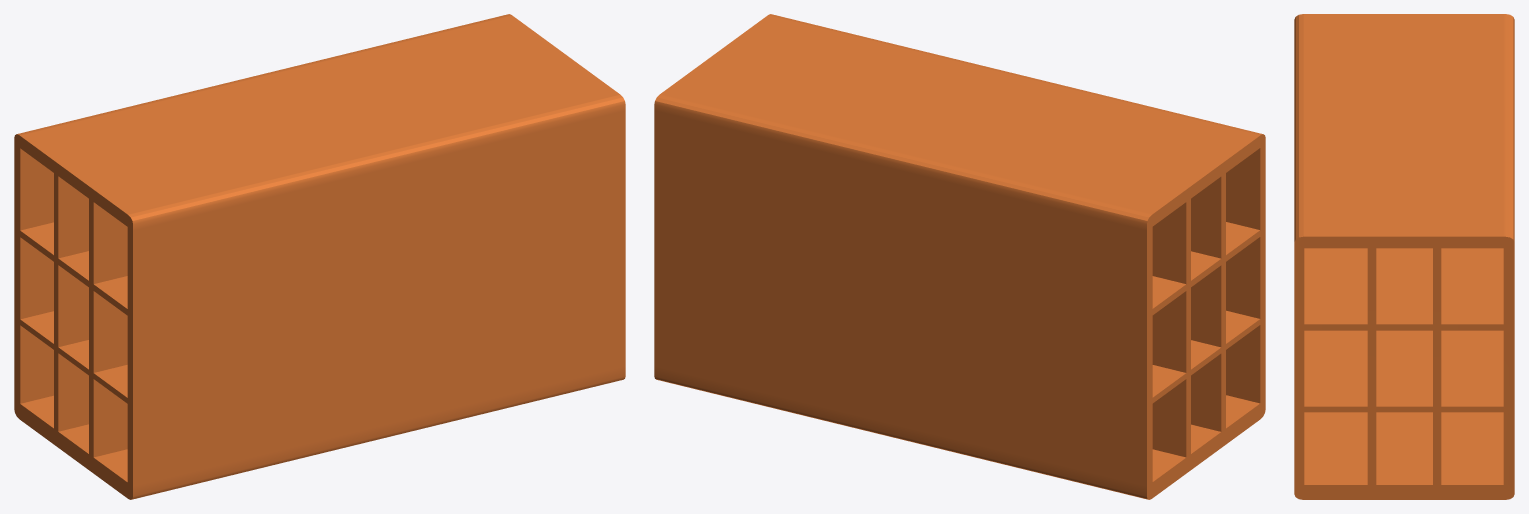
The model's file is brick.obj.
3 views of the same model, side by side, from view 1: azimuth 30°, elevation 25°; view 2: azimuth 150°, elevation 25°; view 3: azimuth 270°, elevation 25° (orthographic). The views are drawn at different scales.
Visible parts, largest first — view 1: pCube2; view 2: pCube2; view 3: pCube2.
Boxes of the visible parts, x1=… form: pCube2: x1=14, y1=14, x2=625, y2=499; pCube2: x1=654, y1=14, x2=1265, y2=499; pCube2: x1=1294, y1=14, x2=1514, y2=499.
Bounding box in the file's own units: 23.94 × 13.19 × 10.
1 material, 1 textured.
